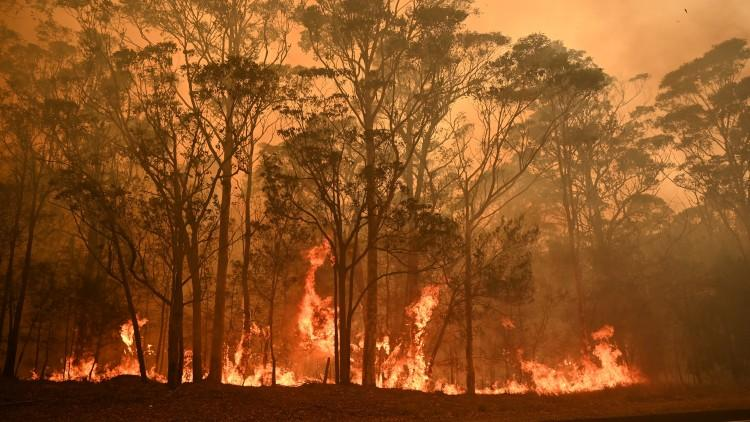fire: (356, 267, 636, 411), (58, 289, 270, 408), (286, 232, 343, 401)
